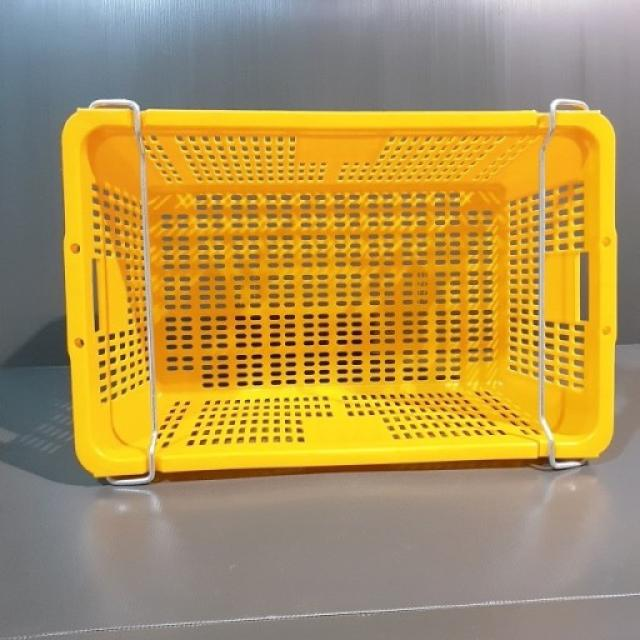basket: (61, 100, 618, 485)
